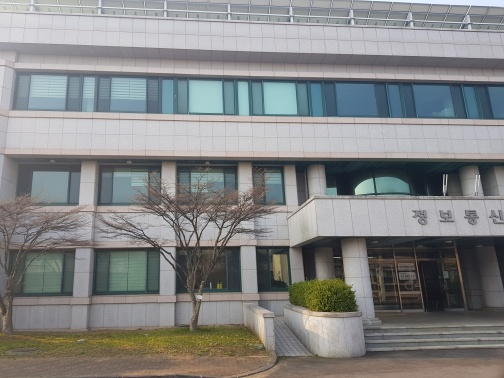Information Telecommunication Center: (1, 7, 499, 323), (280, 179, 501, 350), (307, 241, 502, 350), (396, 203, 503, 236)
